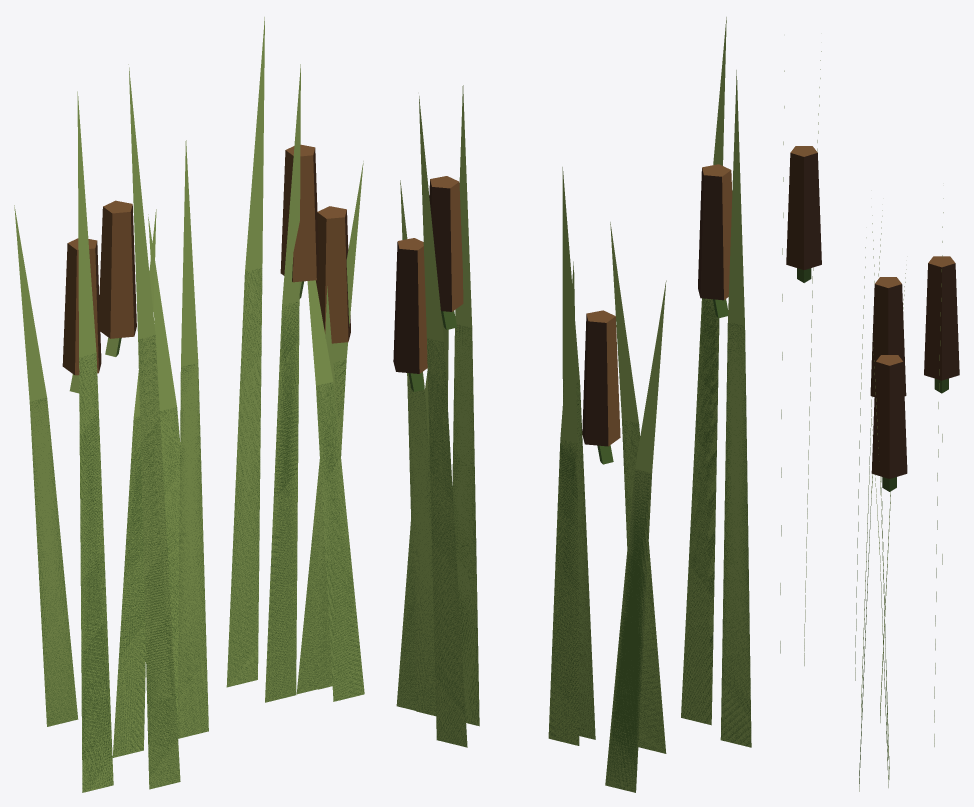
The model's file is tall_reeds.glb.
The picture shows the model from 3 angles, left to right: view 1: azimuth 30°, elevation 25°; view 2: azimuth 150°, elevation 25°; view 3: azimuth 270°, elevation 25°; orthographic projection. The views are drawn at different scales.
Visible parts, largest first — view 1: tall_reeds; view 2: tall_reeds; view 3: tall_reeds.
Boxes of the visible parts, x1=… form: tall_reeds: x1=14, y1=17, x2=364, y2=792; tall_reeds: x1=393, y1=17, x2=751, y2=792; tall_reeds: x1=780, y1=51, x2=959, y2=791.
Size of the model in its own units: 0.4592 by 1 by 0.2481.
